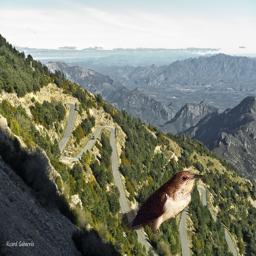Cuckoo: (118, 170, 206, 234)
